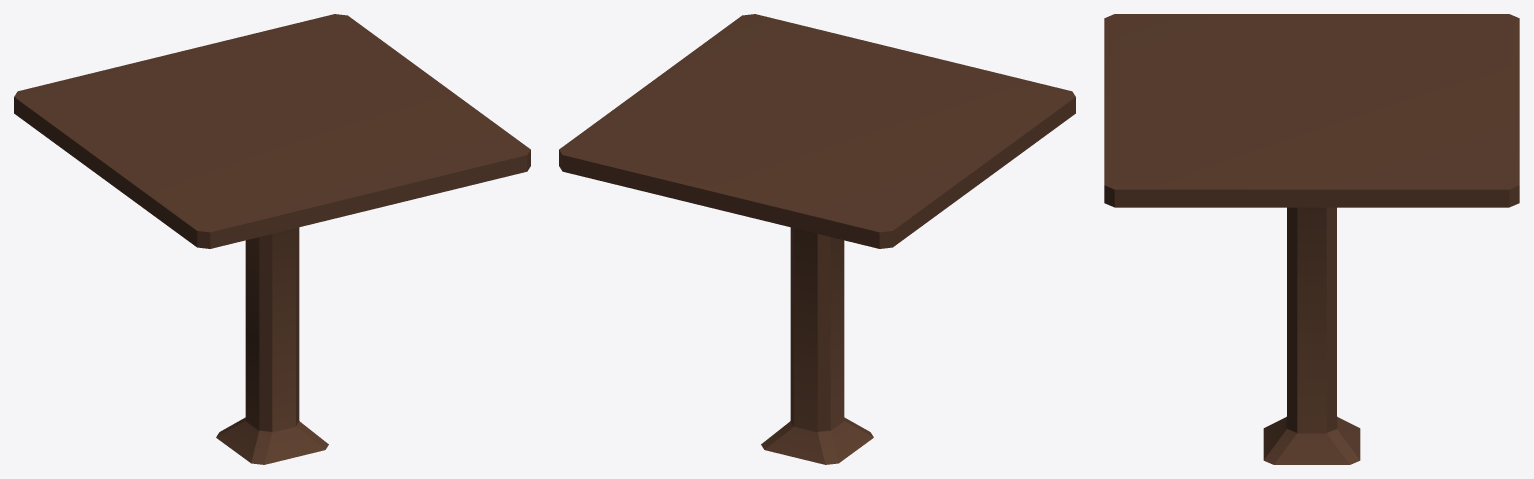
File: barTable.fbx
3 renders of one model, left to right at view 1: azimuth 30°, elevation 25°; view 2: azimuth 150°, elevation 25°; view 3: azimuth 270°, elevation 25°, orthographic. The views are drawn at different scales.
Parts seen in each view (by area): view 1: Bar Table; view 2: Bar Table; view 3: Bar Table.
Part boxes in pixels (<box>): Bar Table: <box>14,14,530,464</box>; Bar Table: <box>559,14,1075,464</box>; Bar Table: <box>1104,14,1519,464</box>.
Size of the model in its own units: 280 by 280 by 256.
